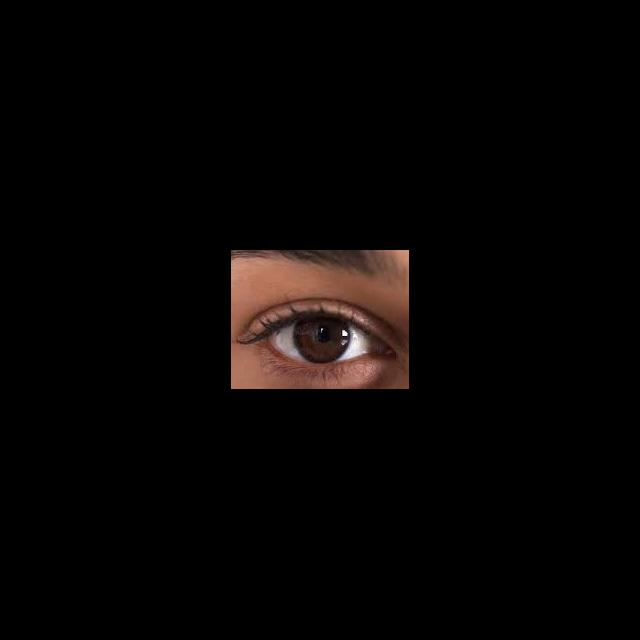eye: (268, 317, 373, 364)
iris: (294, 318, 350, 364)
